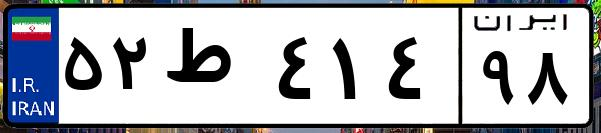1: (330, 28, 385, 110)
2: (110, 28, 158, 98)
4: (270, 28, 330, 110), (385, 28, 445, 110)
5: (57, 26, 110, 100)
8: (525, 38, 570, 115)
9: (475, 38, 525, 113)
ط: (158, 20, 270, 120)
